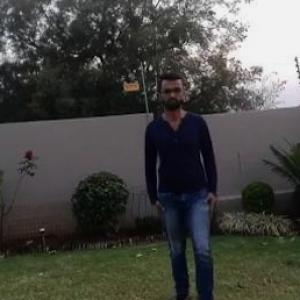follow: (153, 78, 218, 299)
